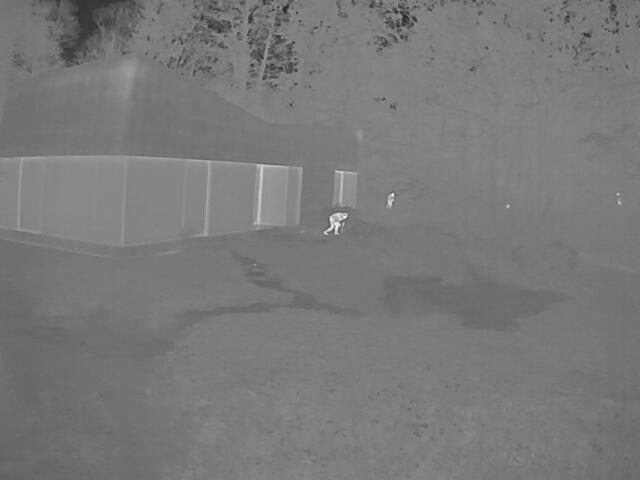person: (324, 209, 346, 236), (384, 191, 394, 207)
